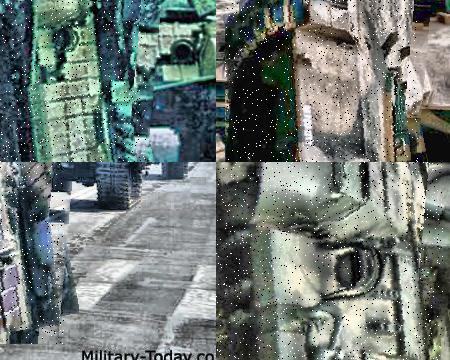tanks: (217, 163, 438, 360), (227, 1, 418, 163), (1, 1, 143, 163), (1, 163, 65, 333), (61, 163, 156, 210)
